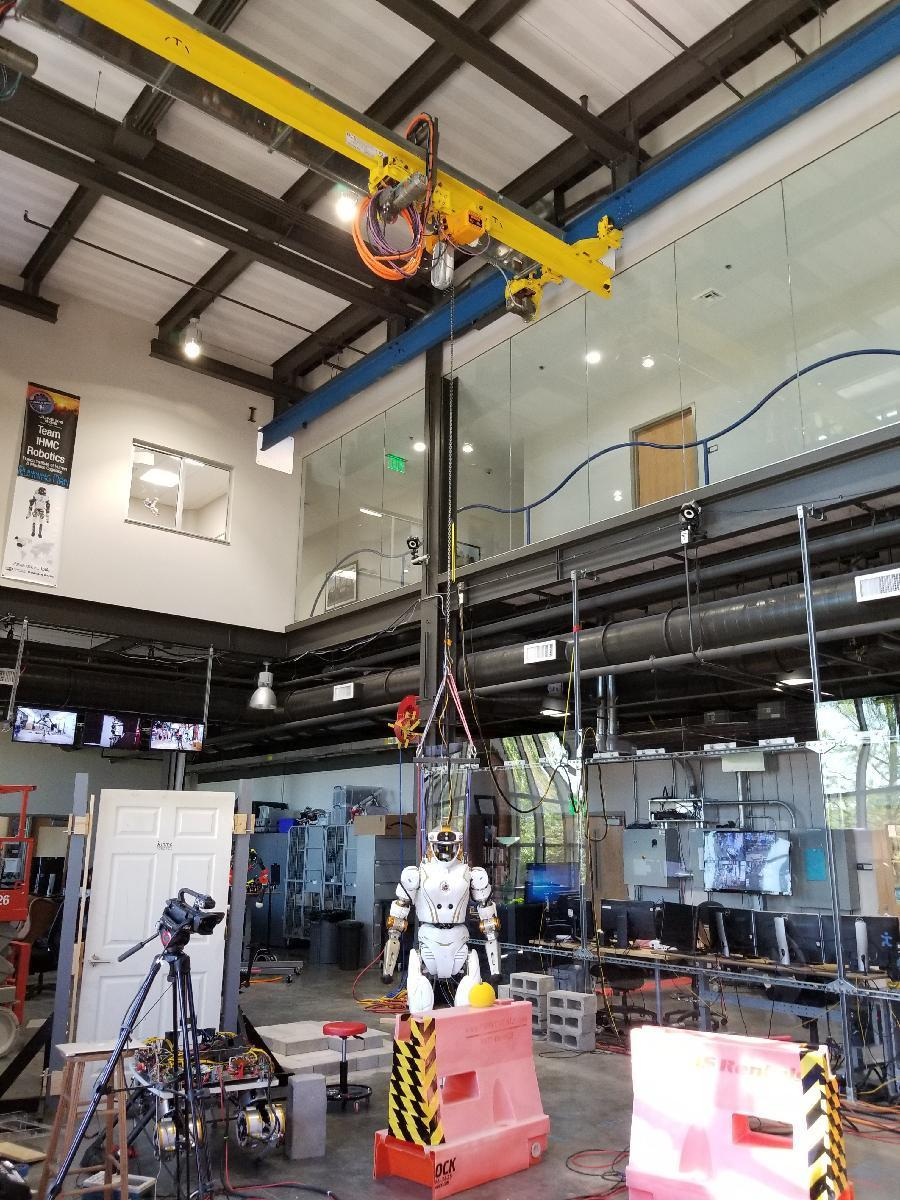door: (95, 788, 228, 1049)
